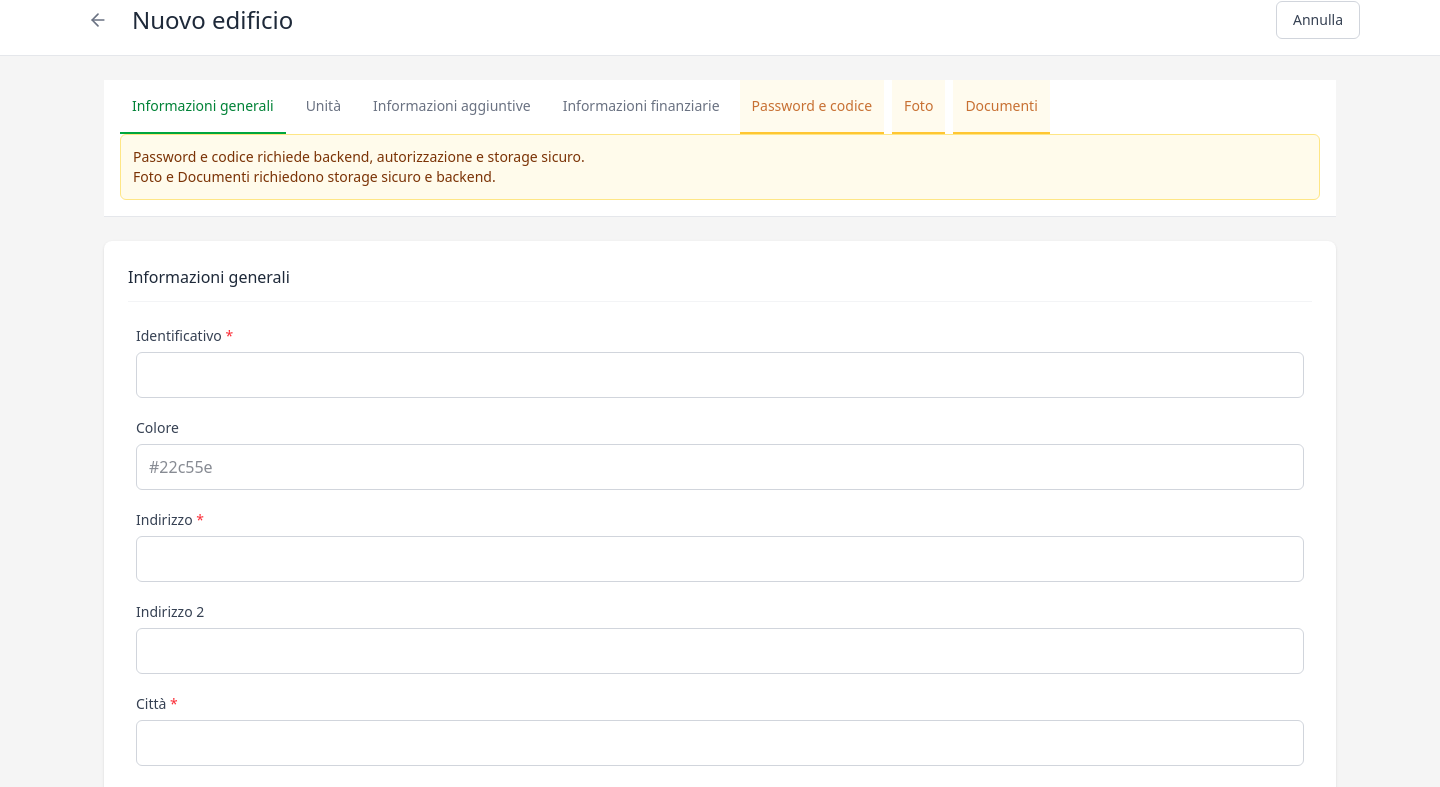
Scenario: building routes integration › crea in ACCOUNT_A, naviga con l’id reale e rende il dettaglio account-scoped
The image size is (1440, 787).
Expected: the heading "Nuovo edificio" is shown, left=132, top=4, right=293, bottom=36
Step 1. Type "Edificio Route" into the field with id "identifier" → coordinates (720, 375), box left=136, top=352, right=1304, bottom=398
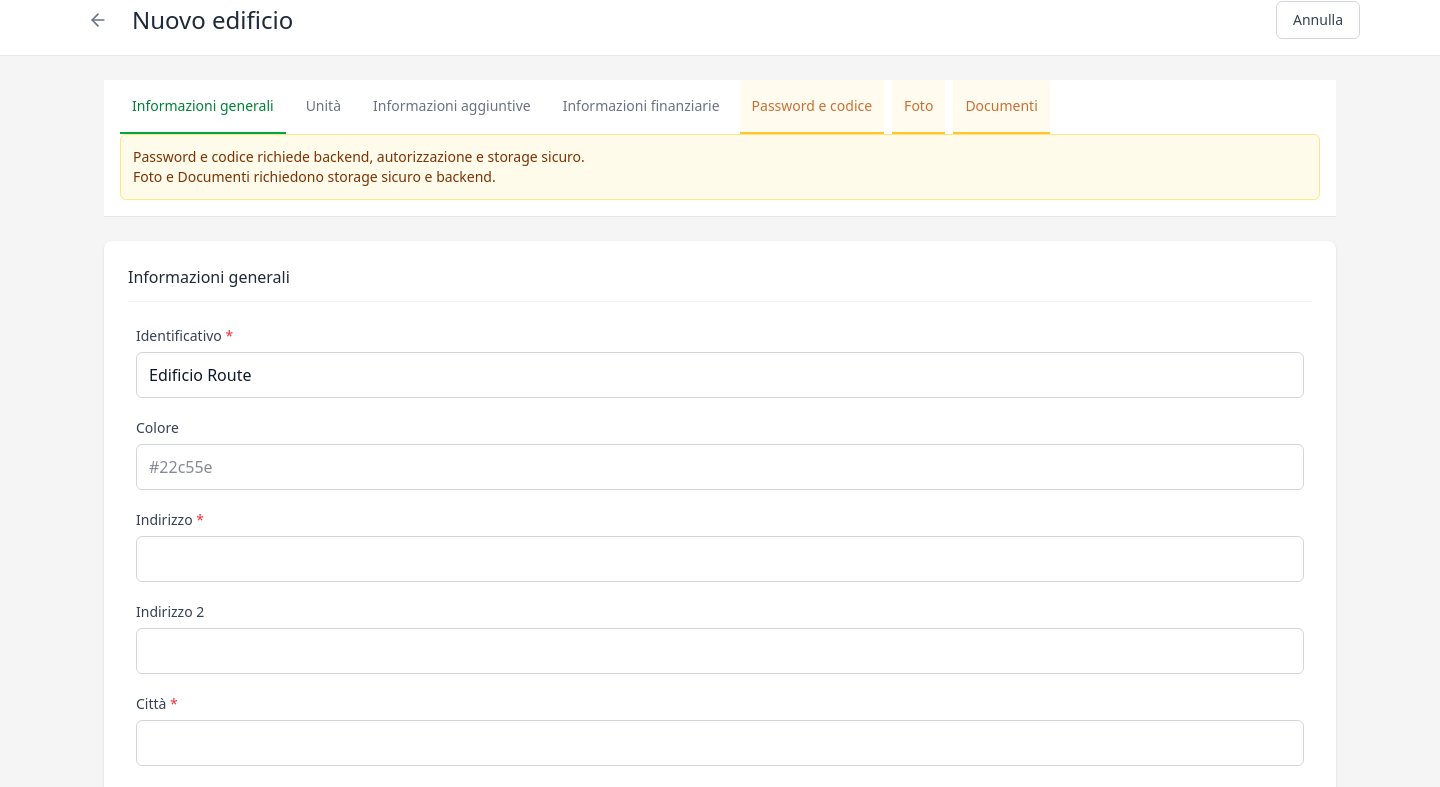
Step 2. Type "Via Router 10" into the field with id "address" → coordinates (720, 559), box left=136, top=536, right=1304, bottom=582
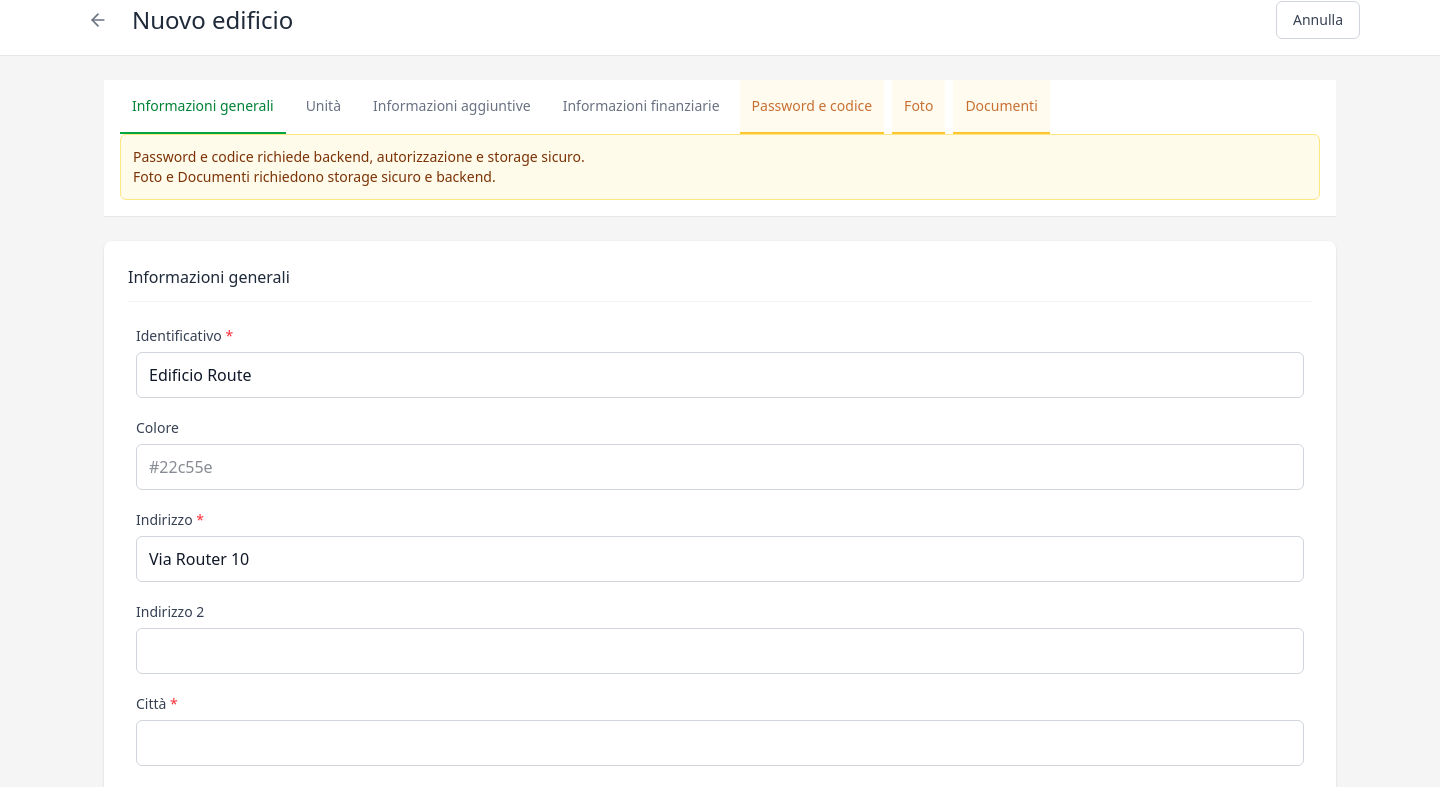
Step 3. Type "Roma" into the field with id "city" → coordinates (720, 743), box left=136, top=720, right=1304, bottom=766
(page scrolled)
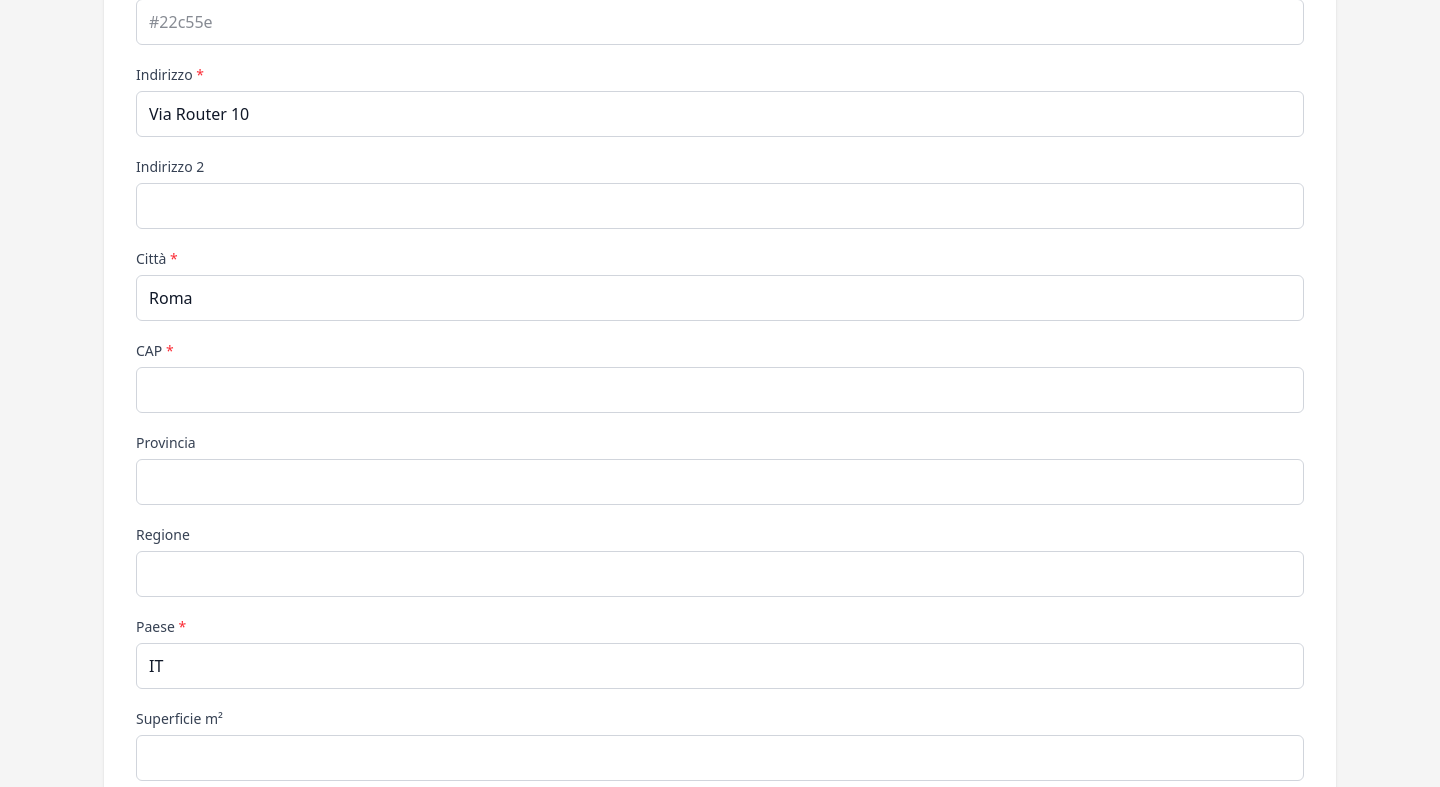
Step 4. Type "00100" into the field labelled "CAP *" → coordinates (720, 390), box left=136, top=367, right=1304, bottom=413
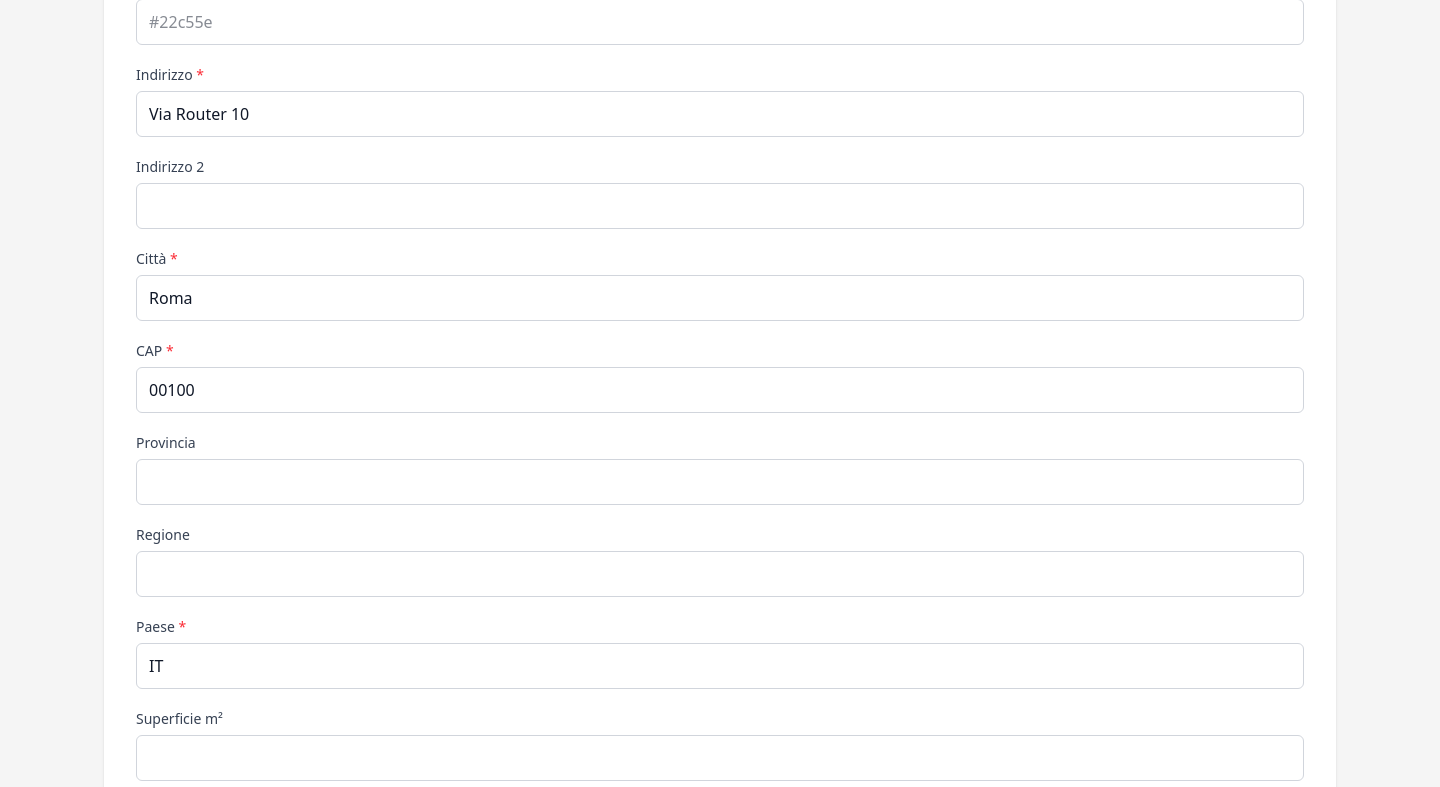
Step 5. Replace the text in the field with id "country" with "it" → coordinates (720, 666), box left=136, top=643, right=1304, bottom=689
(page scrolled)
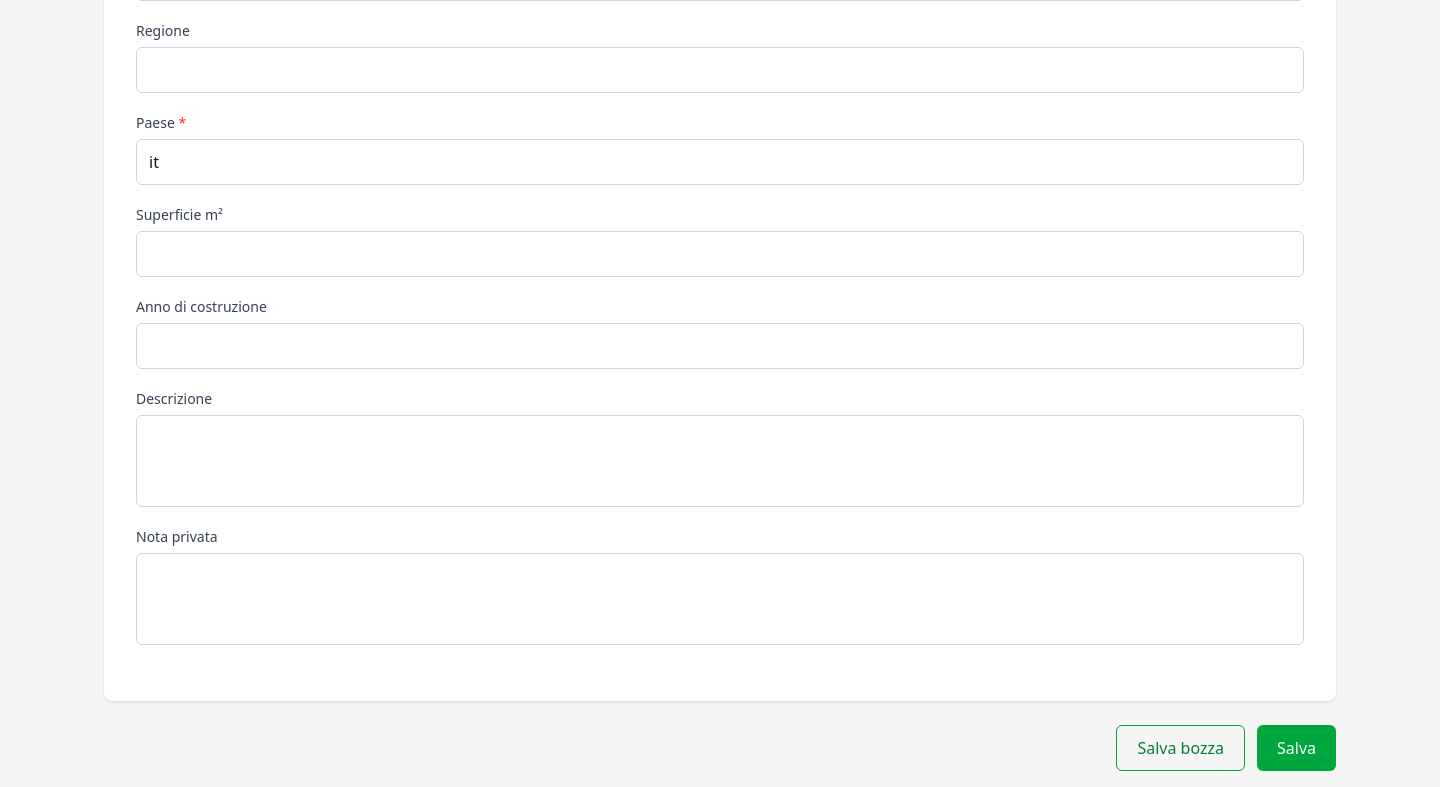
Step 6. Click the button "Salva" → coordinates (1296, 748), box left=1257, top=725, right=1336, bottom=771
(page scrolled)
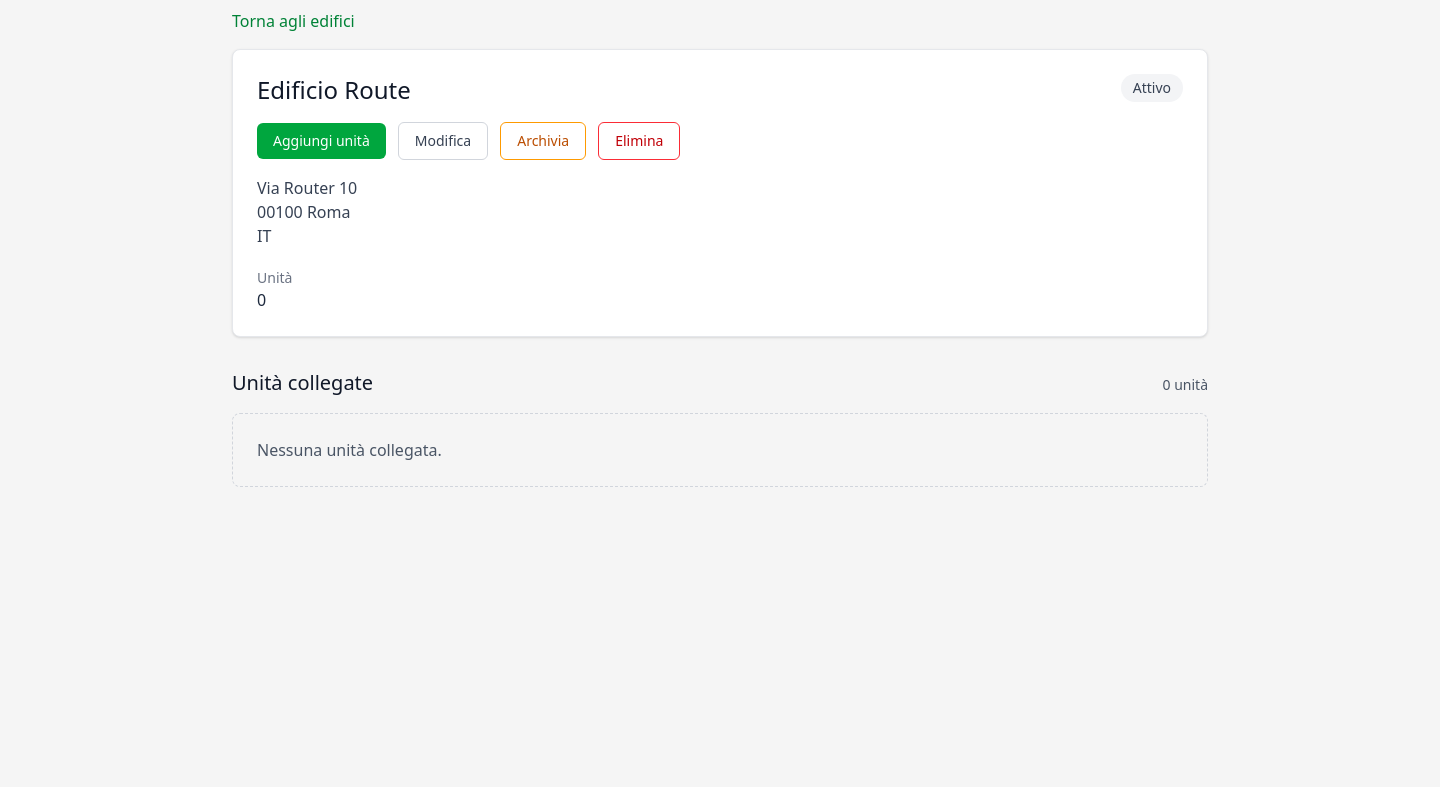
Expected: the heading "Edificio Route" is shown, left=257, top=74, right=411, bottom=106
Expected: the text "Via Router 10" is shown, left=257, top=177, right=357, bottom=199
Expected: the text "00100 Roma" is shown, left=257, top=201, right=350, bottom=223
